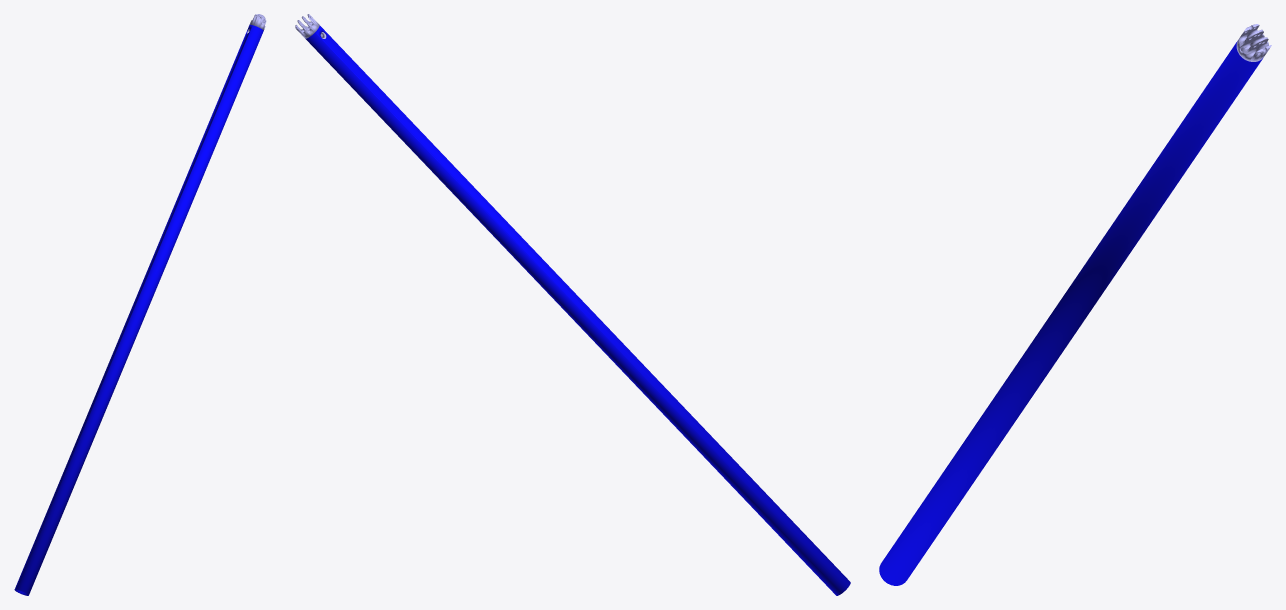
The model's file is instrument_shaft_blender.dae.
3 views of the same model, side by side, from view 1: azimuth 30°, elevation 25°; view 2: azimuth 150°, elevation 25°; view 3: azimuth 270°, elevation 25° (orthographic). The views are drawn at different scales.
Visible parts, largest first — view 1: Actor1; view 2: Actor1; view 3: Actor1, Actor0.
Part boxes in pixels (x1,y1,x2,y2): Actor1: (14, 24, 263, 595); Actor1: (305, 25, 850, 595); Actor1: (879, 41, 1262, 585); Actor0: (1236, 24, 1271, 61).
Bounding box in the file's own units: 0.2531 × 0.1262 × 0.3102.
